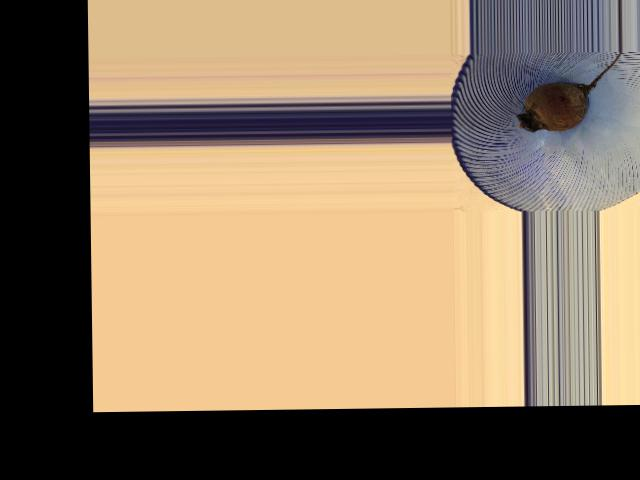beet: (515, 50, 622, 131)
